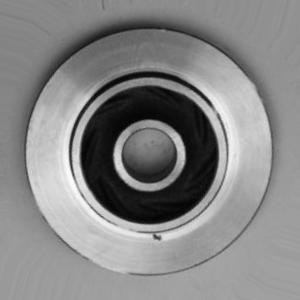defect: (134, 211, 179, 266)
